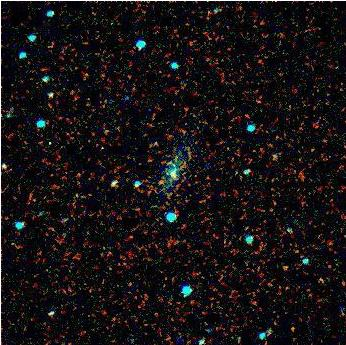star: (161, 158, 191, 188)
